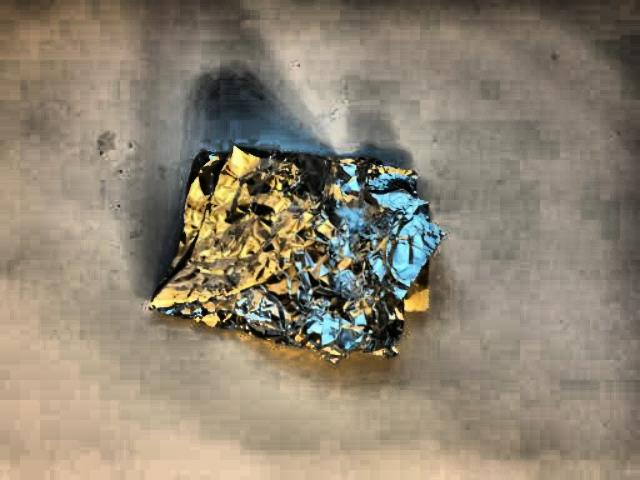Almennt: (117, 112, 454, 378)
